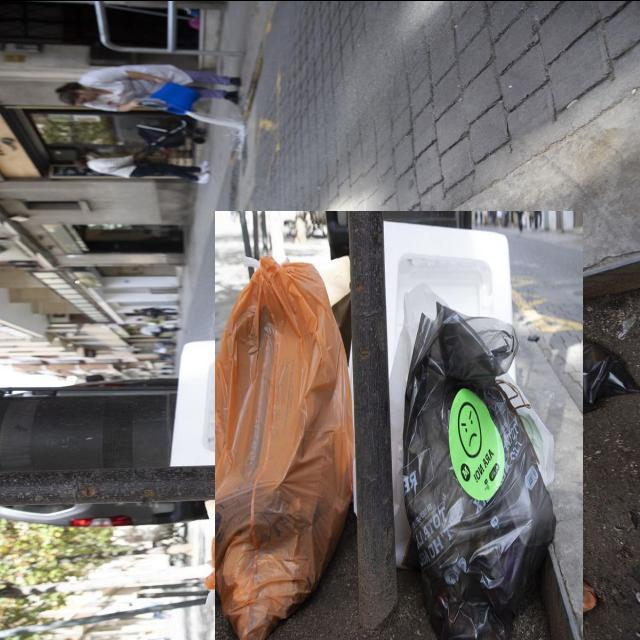Trashbag: (390, 299, 557, 636)
